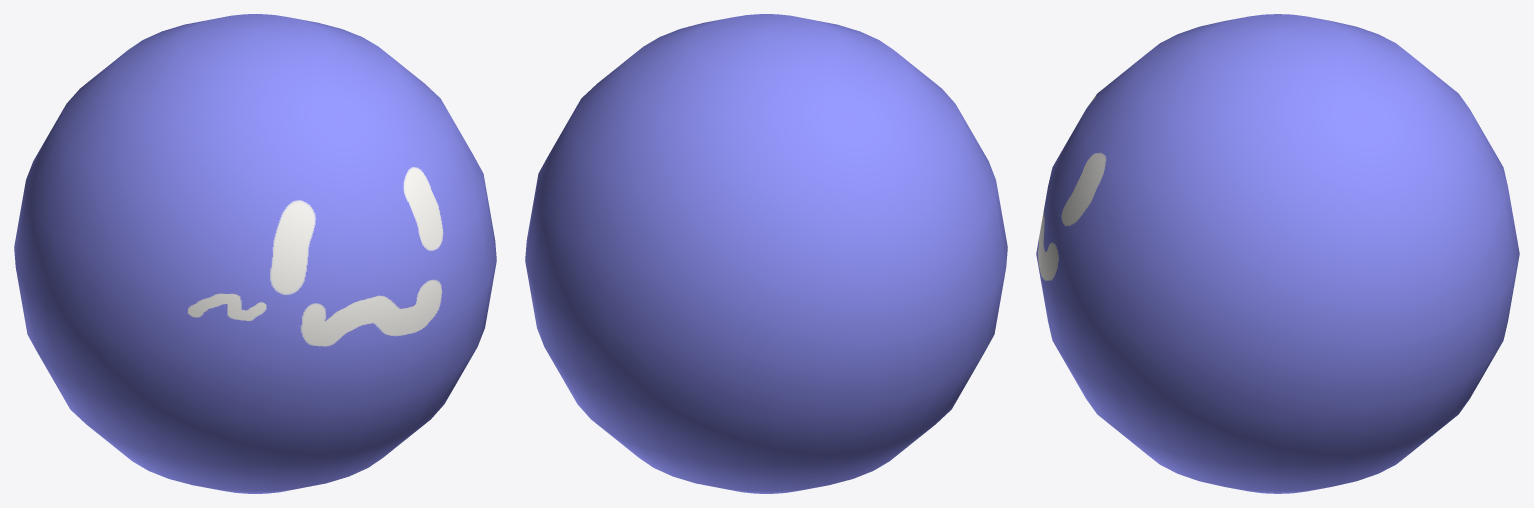
Rendered from qubit.fbx.
The picture shows the model from 3 angles, left to right: view 1: azimuth 30°, elevation 25°; view 2: azimuth 150°, elevation 25°; view 3: azimuth 270°, elevation 25°; orthographic projection.
Parts seen in each view (by area): view 1: Sphere; view 2: Sphere; view 3: Sphere.
Part boxes in pixels (x1,y1,x2,y2): Sphere: (14,14,496,493); Sphere: (525,14,1007,493); Sphere: (1036,14,1519,493).
Bounding box in the file's own units: 2 × 2 × 2.
1 material, 1 textured.
